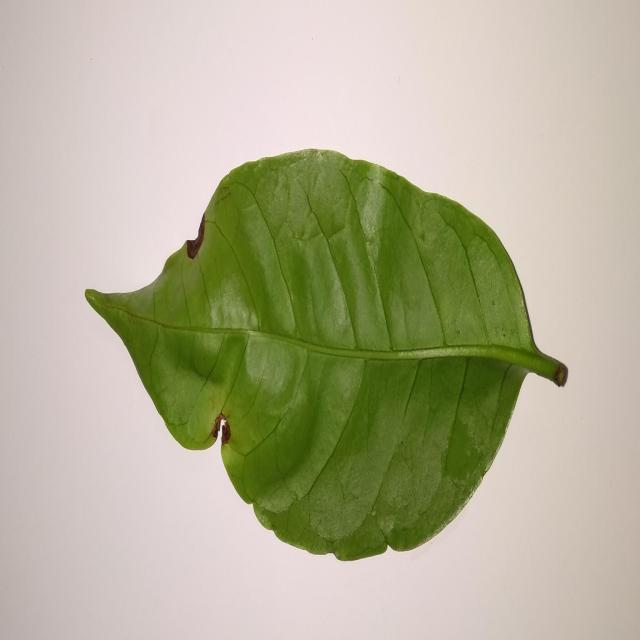Enfermedad-Antracnosis: (83, 150, 570, 564)
